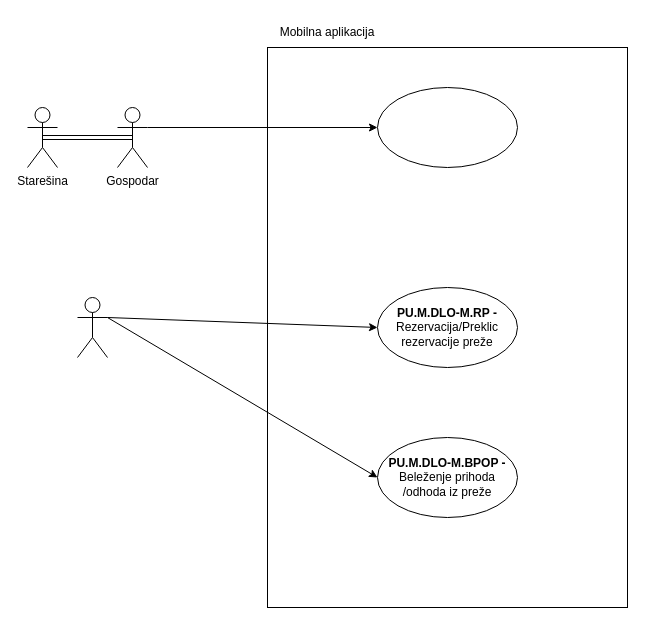
The diagram is 645 pixels wide and 625 high, and some of its shapes have lost their labels. Here are the shapes that lost their labels. From the top down, the box of each, then its label:
(376, 86, 518, 168): PU.M.DLO-M.PPLO - Podroben pregled lovskega objekta
(76, 296, 108, 358): Lovec
